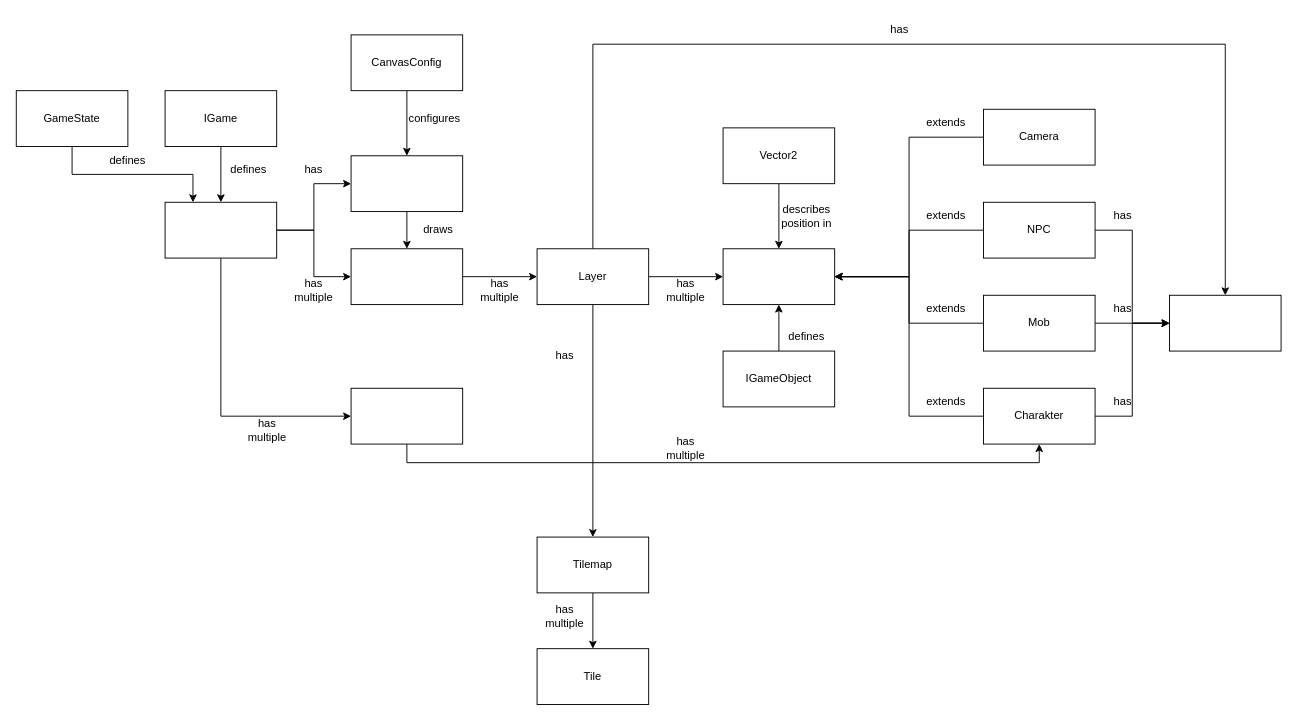
Image size: 1297x721. Some labels were removed from this diagram. Each missing label, with the centre of its shape:
Canvas: [406,183]
Game: [220,229]
GameObject: [778,276]
Level: [406,276]
Player: [406,415]
Sprite: [1225,322]
